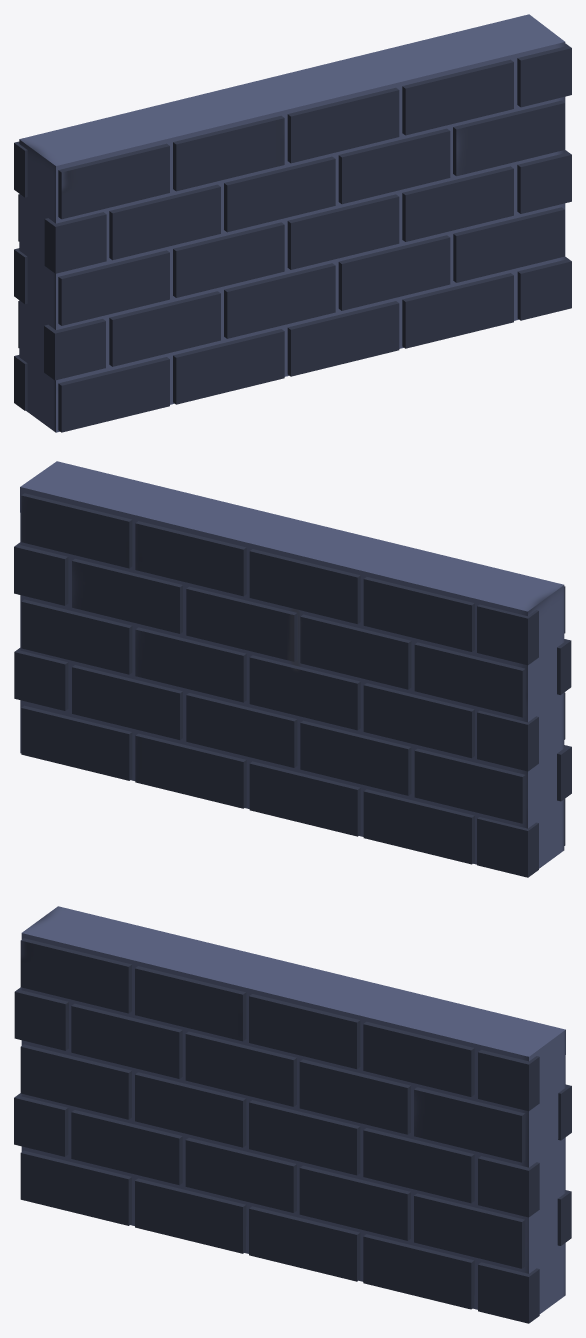
Rendered from ruinwall.fbx.
3 renders of one model, top to bottom at view 1: azimuth 30°, elevation 25°; view 2: azimuth 150°, elevation 25°; view 3: azimuth 330°, elevation 25°, orthographic.
Parts seen in each view (by area): view 1: Cube.050; view 2: Cube.050; view 3: Cube.050.
Boxes of the visible parts, x1,y1,x2,y2 form: Cube.050: [14, 14, 571, 432]; Cube.050: [14, 461, 571, 877]; Cube.050: [14, 906, 571, 1323].
Bounding box in the file's own units: 8.12 × 4.01 × 1.18.
1 material, 1 textured.
